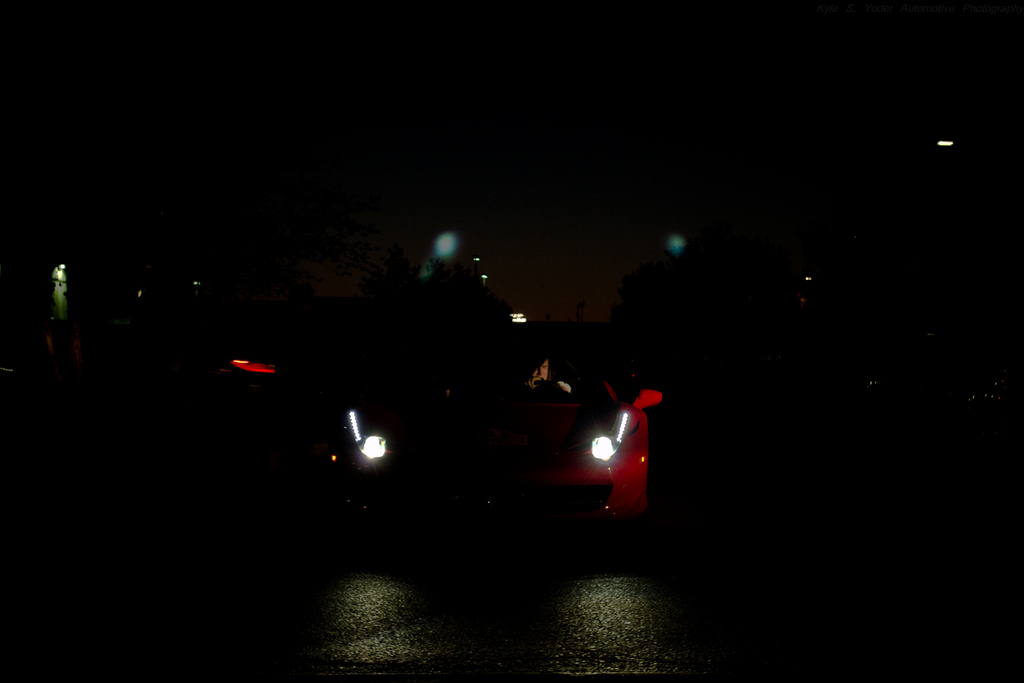car: (324, 312, 693, 553)
